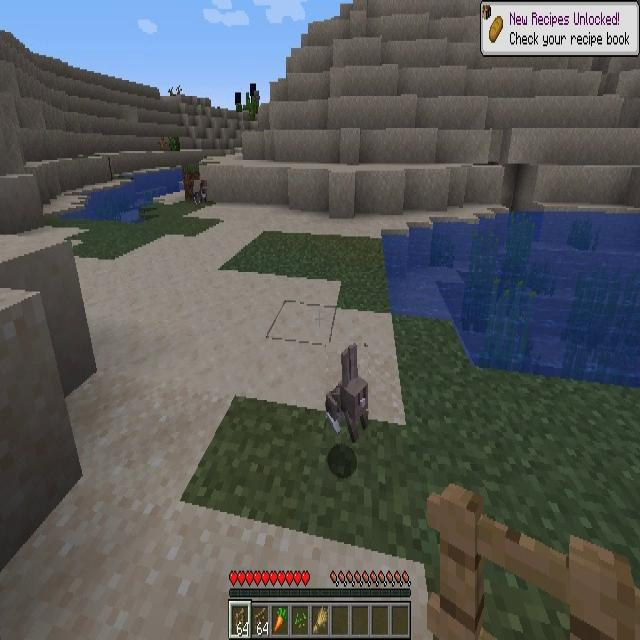rabbit: (326, 343, 368, 443), (194, 180, 207, 206)
